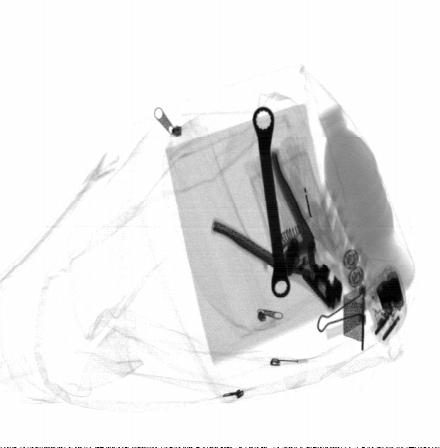Pliers: (211, 146, 345, 311)
Wrench: (252, 106, 292, 302)
